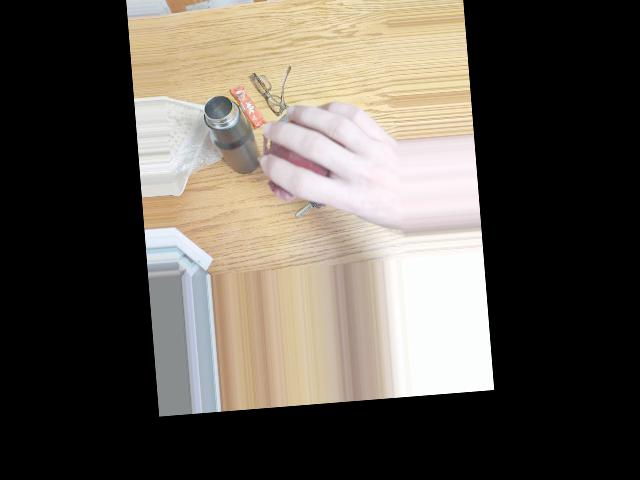onion: (275, 105, 347, 202)
